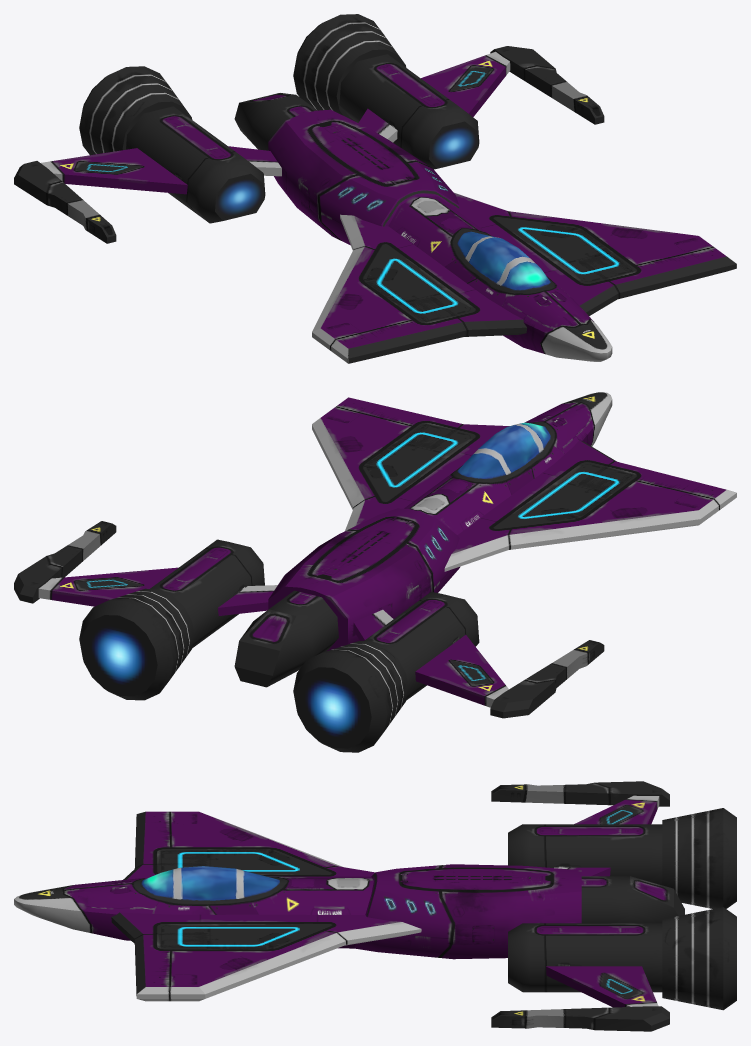
File: PurpleLaser.fbx
3 renders of one model, top to bottom at view 1: azimuth 30°, elevation 25°; view 2: azimuth 150°, elevation 25°; view 3: azimuth 270°, elevation 25°, orthographic. The views are drawn at different scales.
Visible parts, largest first — view 1: StarSparrow07; view 2: StarSparrow07; view 3: StarSparrow07.
Boxes of the visible parts, <box> form: StarSparrow07: <box>14,14,736,363</box>; StarSparrow07: <box>14,392,736,752</box>; StarSparrow07: <box>14,781,736,1031</box>.
Size of the model in its own units: 961 by 176 by 1231.
Materials: 1 (1 with a texture image).
